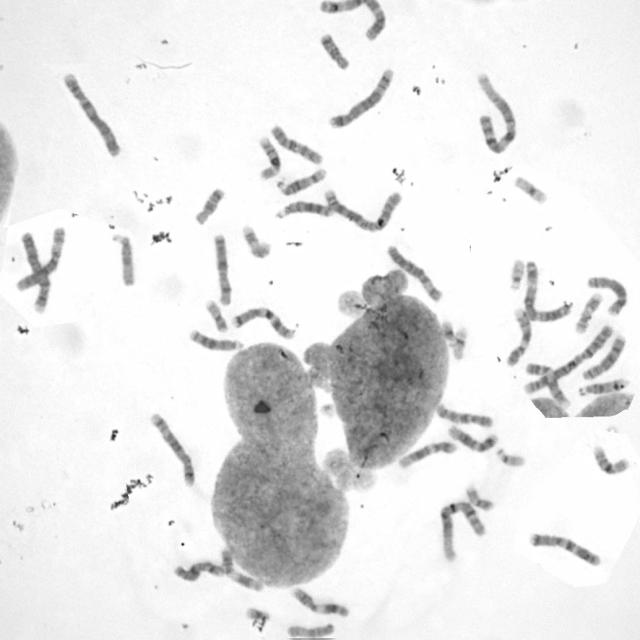A1: (472, 69, 519, 156), (435, 497, 488, 564)
A2: (520, 322, 616, 396), (321, 185, 404, 233)
A3: (520, 258, 572, 324), (317, 0, 388, 42)
B4: (59, 68, 122, 158), (17, 228, 51, 315)
B5: (325, 65, 396, 131), (147, 410, 197, 488)
C10: (266, 122, 324, 166), (432, 399, 494, 428)
C11: (218, 545, 264, 593), (288, 584, 351, 618)
C12: (395, 437, 457, 470), (446, 421, 499, 454)
C6: (13, 223, 67, 292), (384, 242, 444, 302)
C7: (525, 528, 603, 568), (229, 303, 296, 341)
C8: (579, 332, 628, 381), (584, 272, 629, 317)
C9: (522, 359, 572, 408), (503, 304, 534, 368)
D13: (186, 326, 244, 352), (272, 198, 334, 221)
D14: (274, 164, 328, 197), (576, 376, 628, 398)
D15: (109, 230, 137, 288), (284, 620, 336, 638)
E16: (254, 132, 283, 182), (589, 442, 631, 476)
E17: (572, 290, 604, 335), (239, 222, 273, 260)
E18: (317, 29, 351, 72), (192, 185, 226, 226)
F19: (511, 173, 549, 205), (449, 323, 470, 361)
F20: (203, 297, 230, 334), (462, 483, 495, 512)
G21: (245, 606, 272, 623), (440, 317, 457, 343)
G22: (493, 444, 527, 468), (506, 256, 526, 292)
X: (211, 232, 233, 307), (170, 556, 226, 582)
